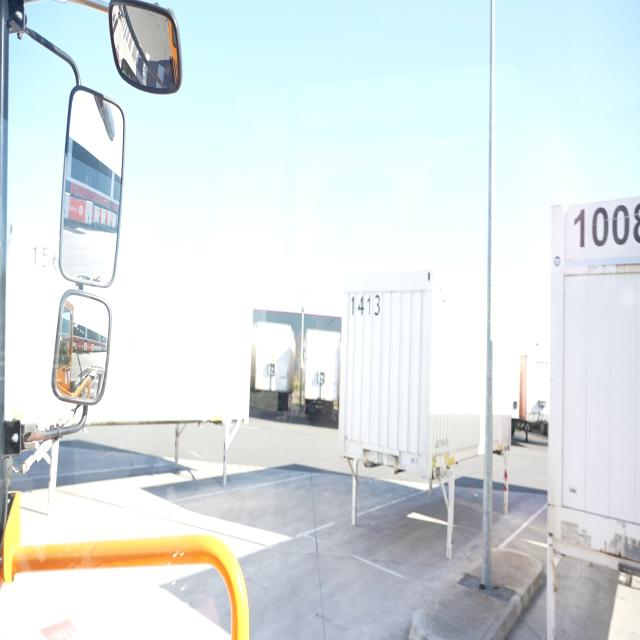Code: (347, 286, 386, 324)
